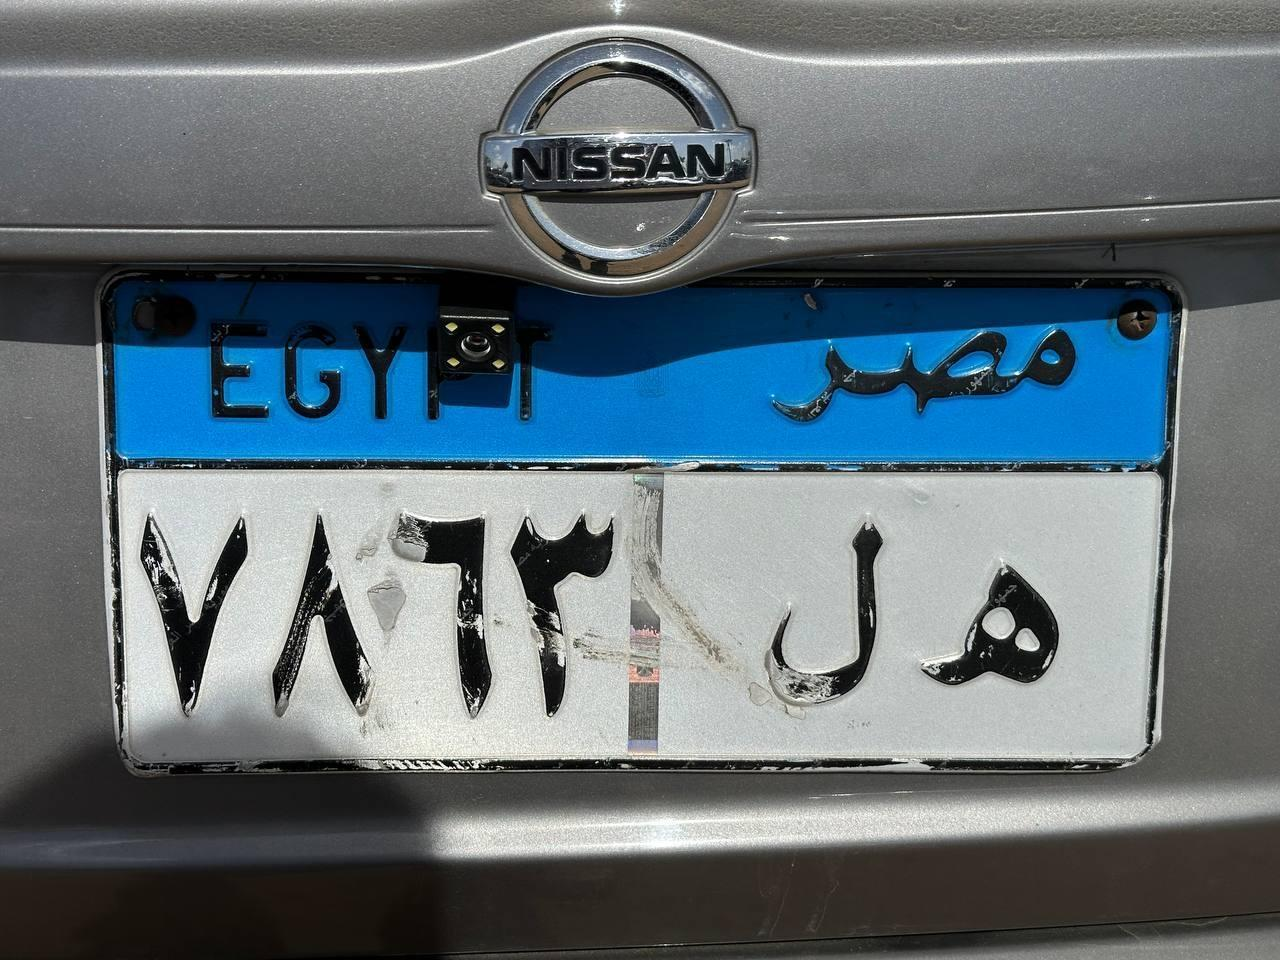3: (498, 507, 632, 723)
6: (384, 508, 510, 718)
7: (136, 516, 280, 730)
8: (261, 518, 386, 716)
Heeh: (901, 564, 1078, 705)
Laam: (752, 513, 884, 711)
License Plate: (92, 261, 1187, 780)
